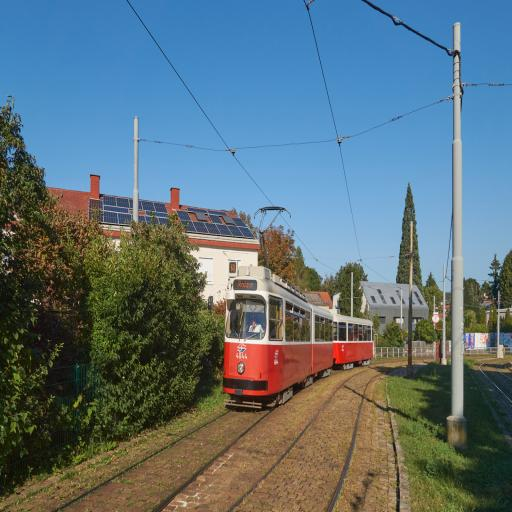E2-Tram: (222, 260, 374, 402)
